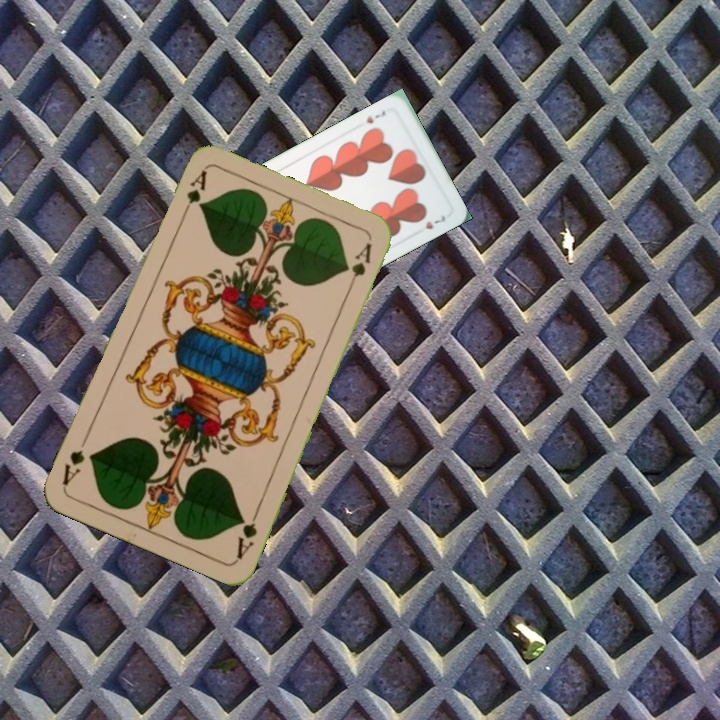GA: (176, 166, 210, 223), (232, 504, 262, 562)
H7: (362, 107, 388, 126)
